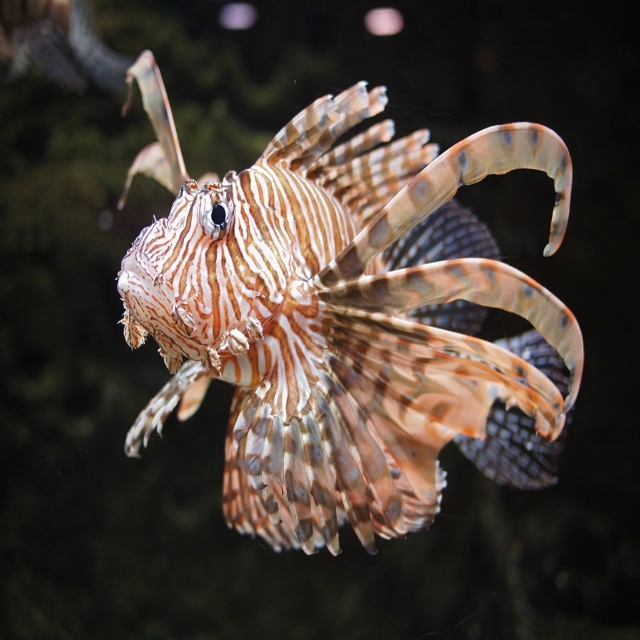Fish: (115, 49, 585, 556)
